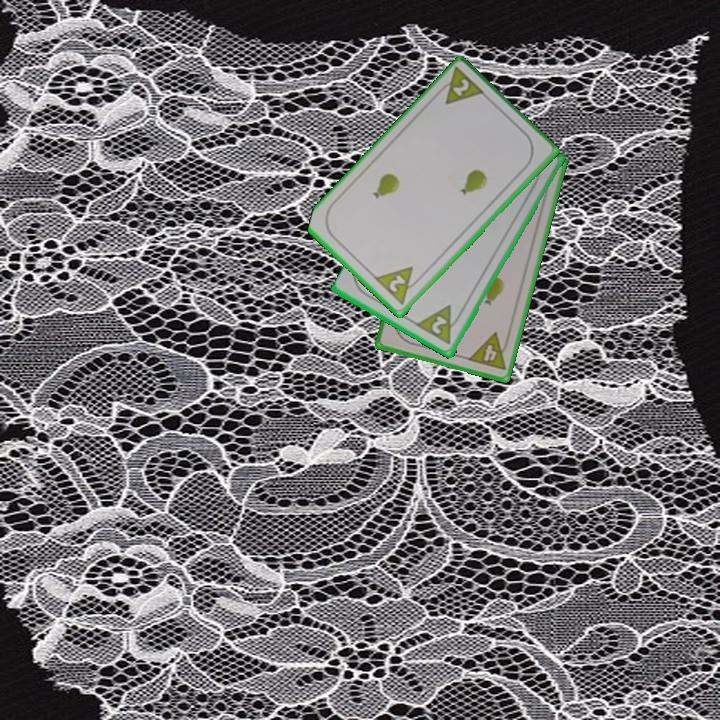2p: (371, 263, 425, 308), (433, 65, 488, 108), (414, 302, 465, 348)
4p: (464, 329, 513, 374)
